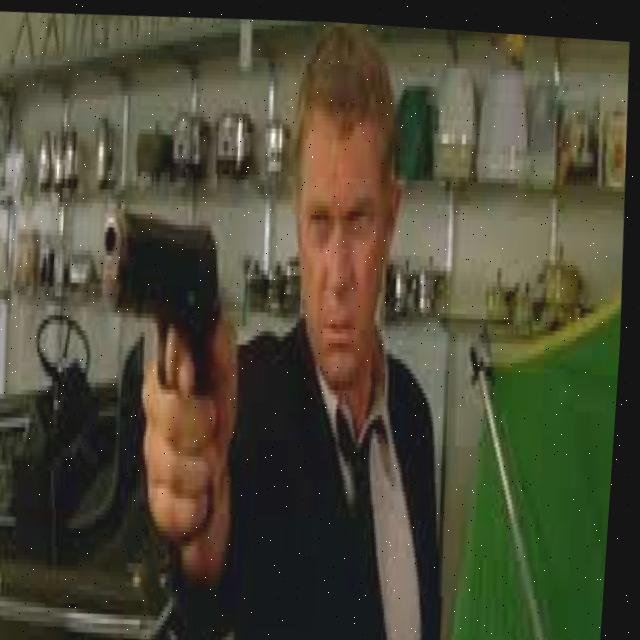pistol: (94, 187, 237, 408)
